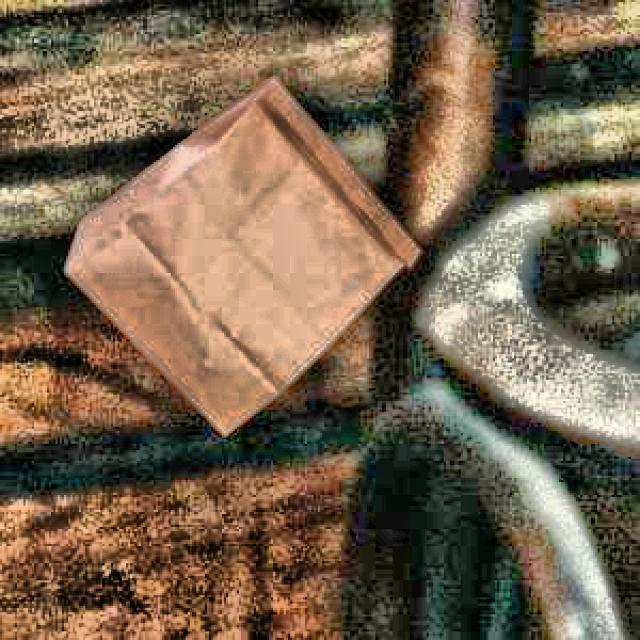Paper-bag: (62, 68, 425, 470)
